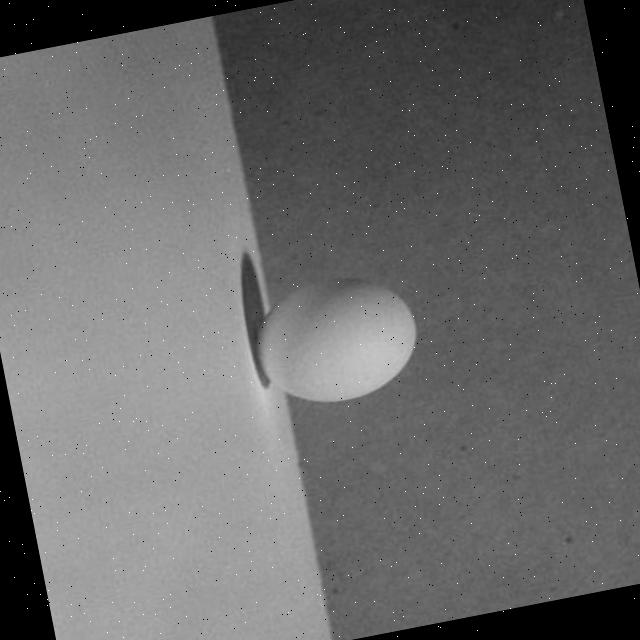ping-pong-ball: (240, 262, 430, 418)
